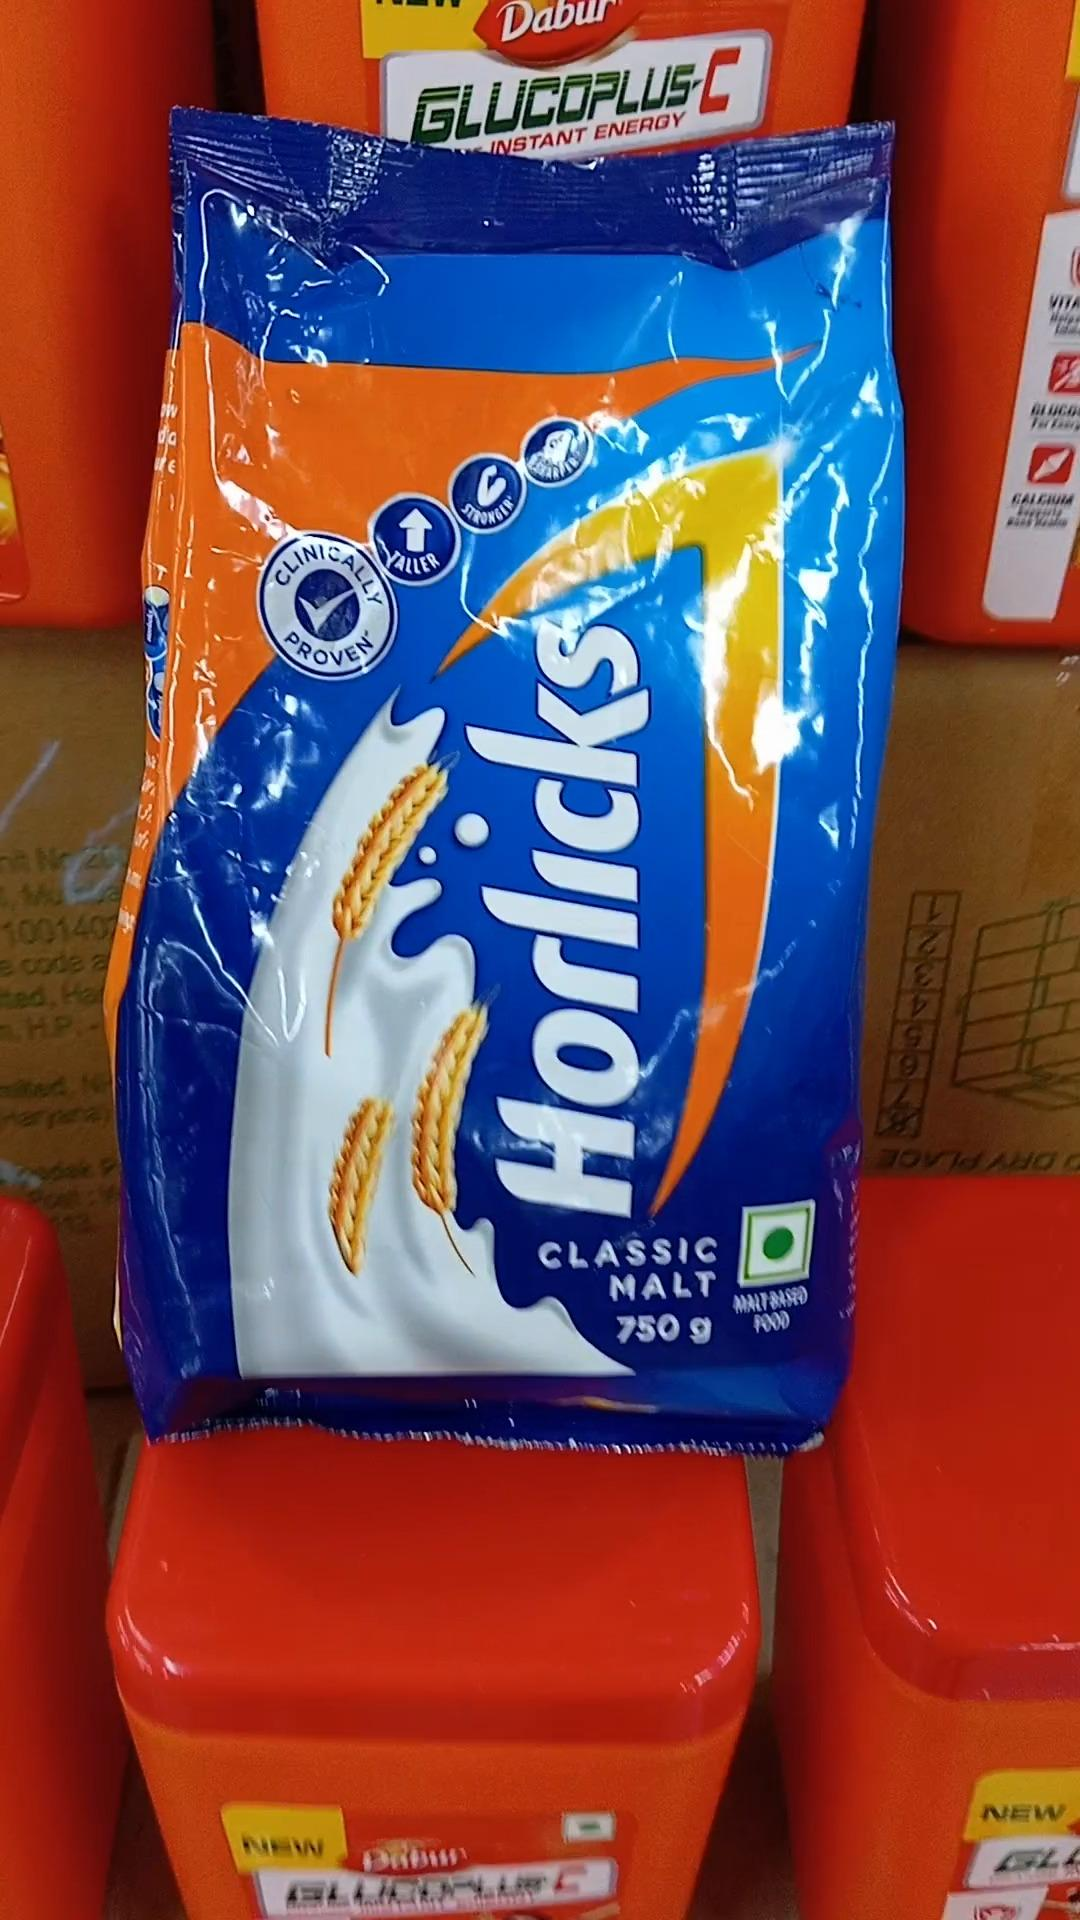HORLICK_CLASSIC_MALT_750_G_POUCH: (156, 80, 880, 1455)
